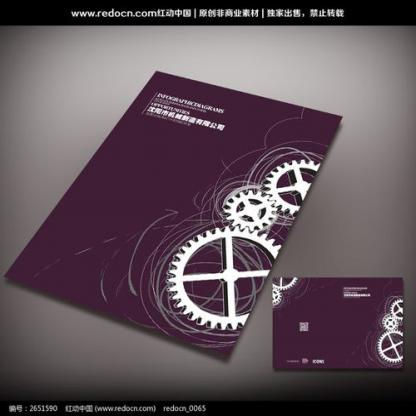FOD: (166, 223, 284, 326)
